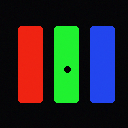0 point: (64, 66, 70, 72)
